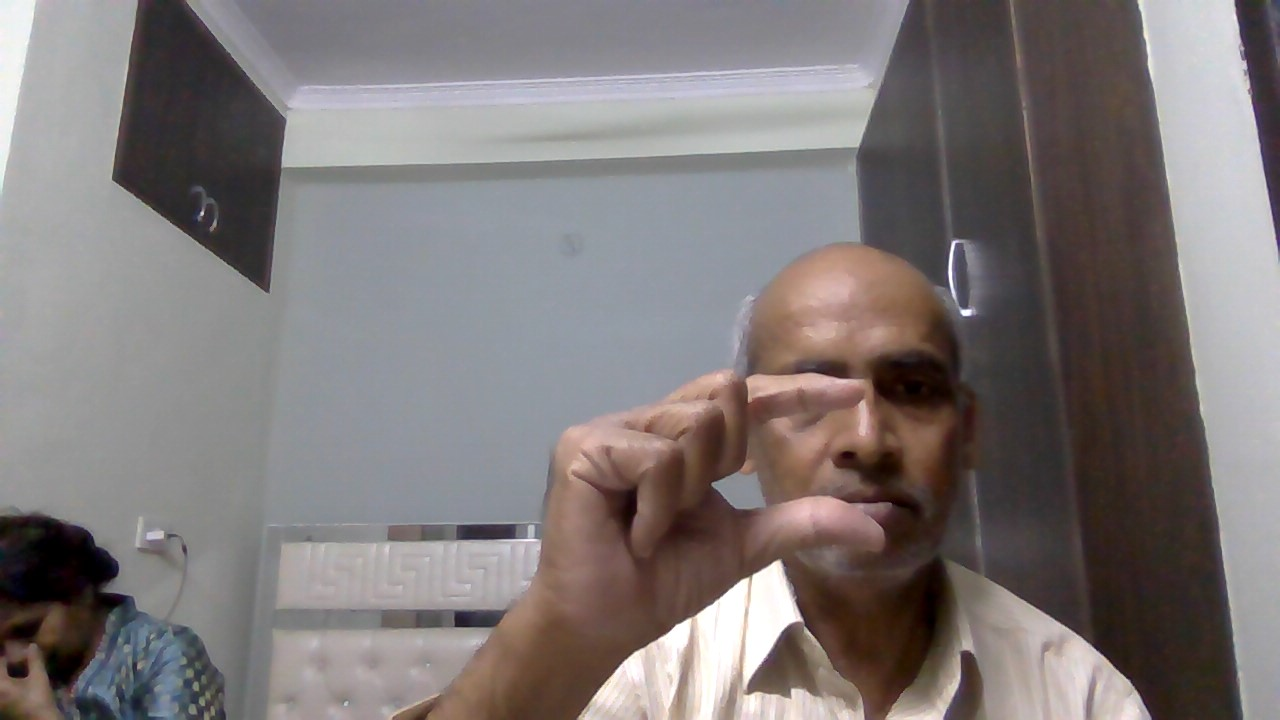Paste: (527, 361, 896, 692)
